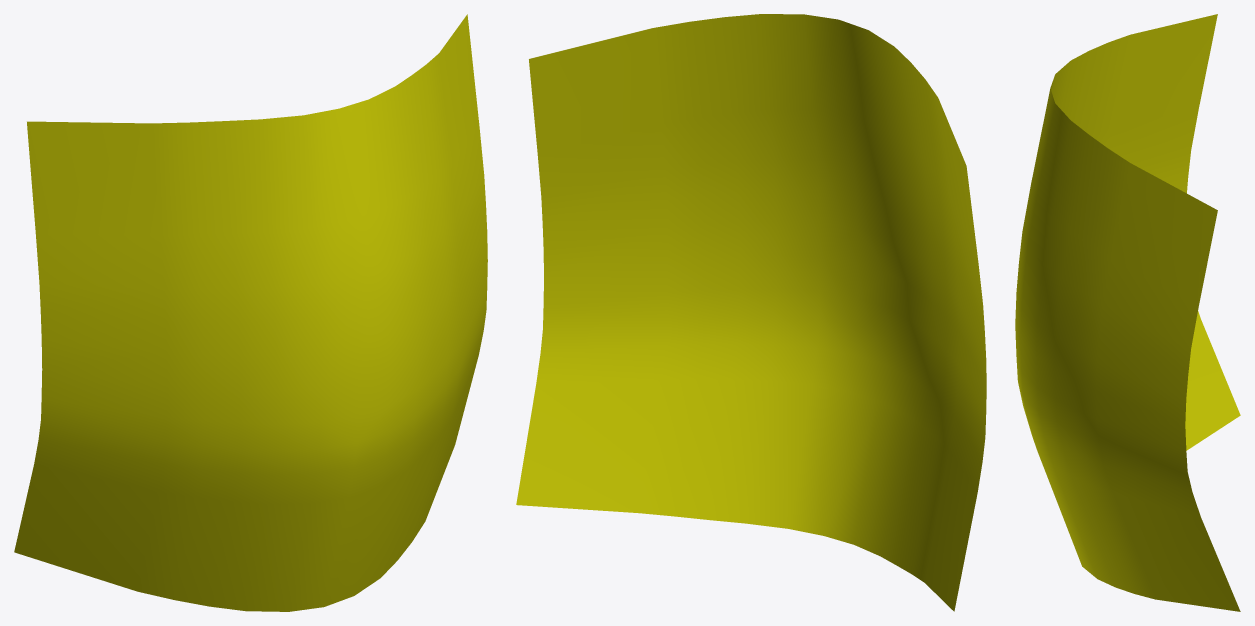
The model's file is Mask_9.glb.
3 renders of one model, left to right at view 1: azimuth 30°, elevation 25°; view 2: azimuth 150°, elevation 25°; view 3: azimuth 270°, elevation 25°, orthographic. The views are drawn at different scales.
Size of the model in its own units: 91.86 by 100 by 44.09.
